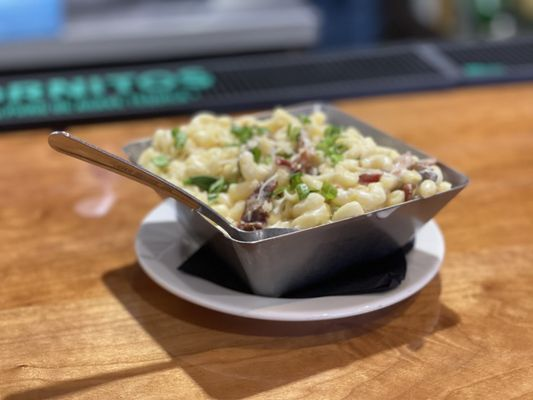salad: (44, 125, 451, 299)
sushi: (96, 101, 470, 299)
